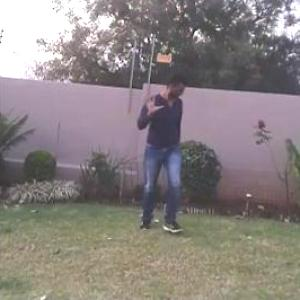follow_hand: (138, 87, 164, 118)
